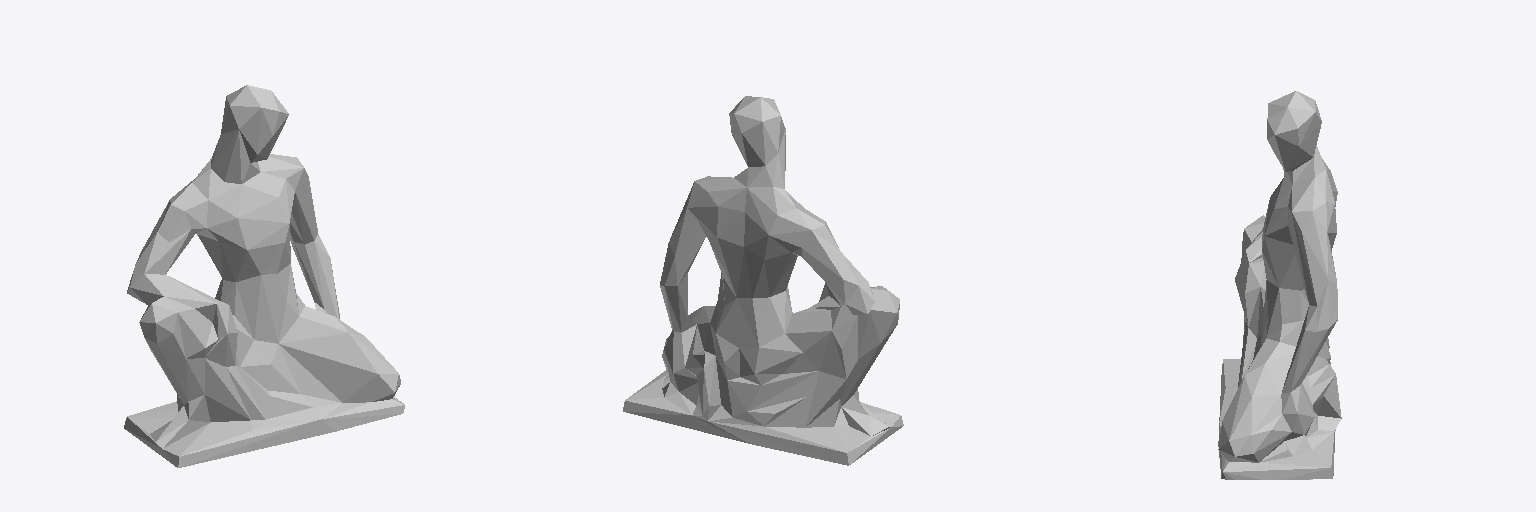
The model's file is uploads_files_1856997_man+pose+1.obj.
The picture shows the model from 3 angles: view 1: azimuth 30°, elevation 25°; view 2: azimuth 150°, elevation 25°; view 3: azimuth 270°, elevation 25°; orthographic projection.
Bounding box in the file's own units: 158 × 203 × 68.56.